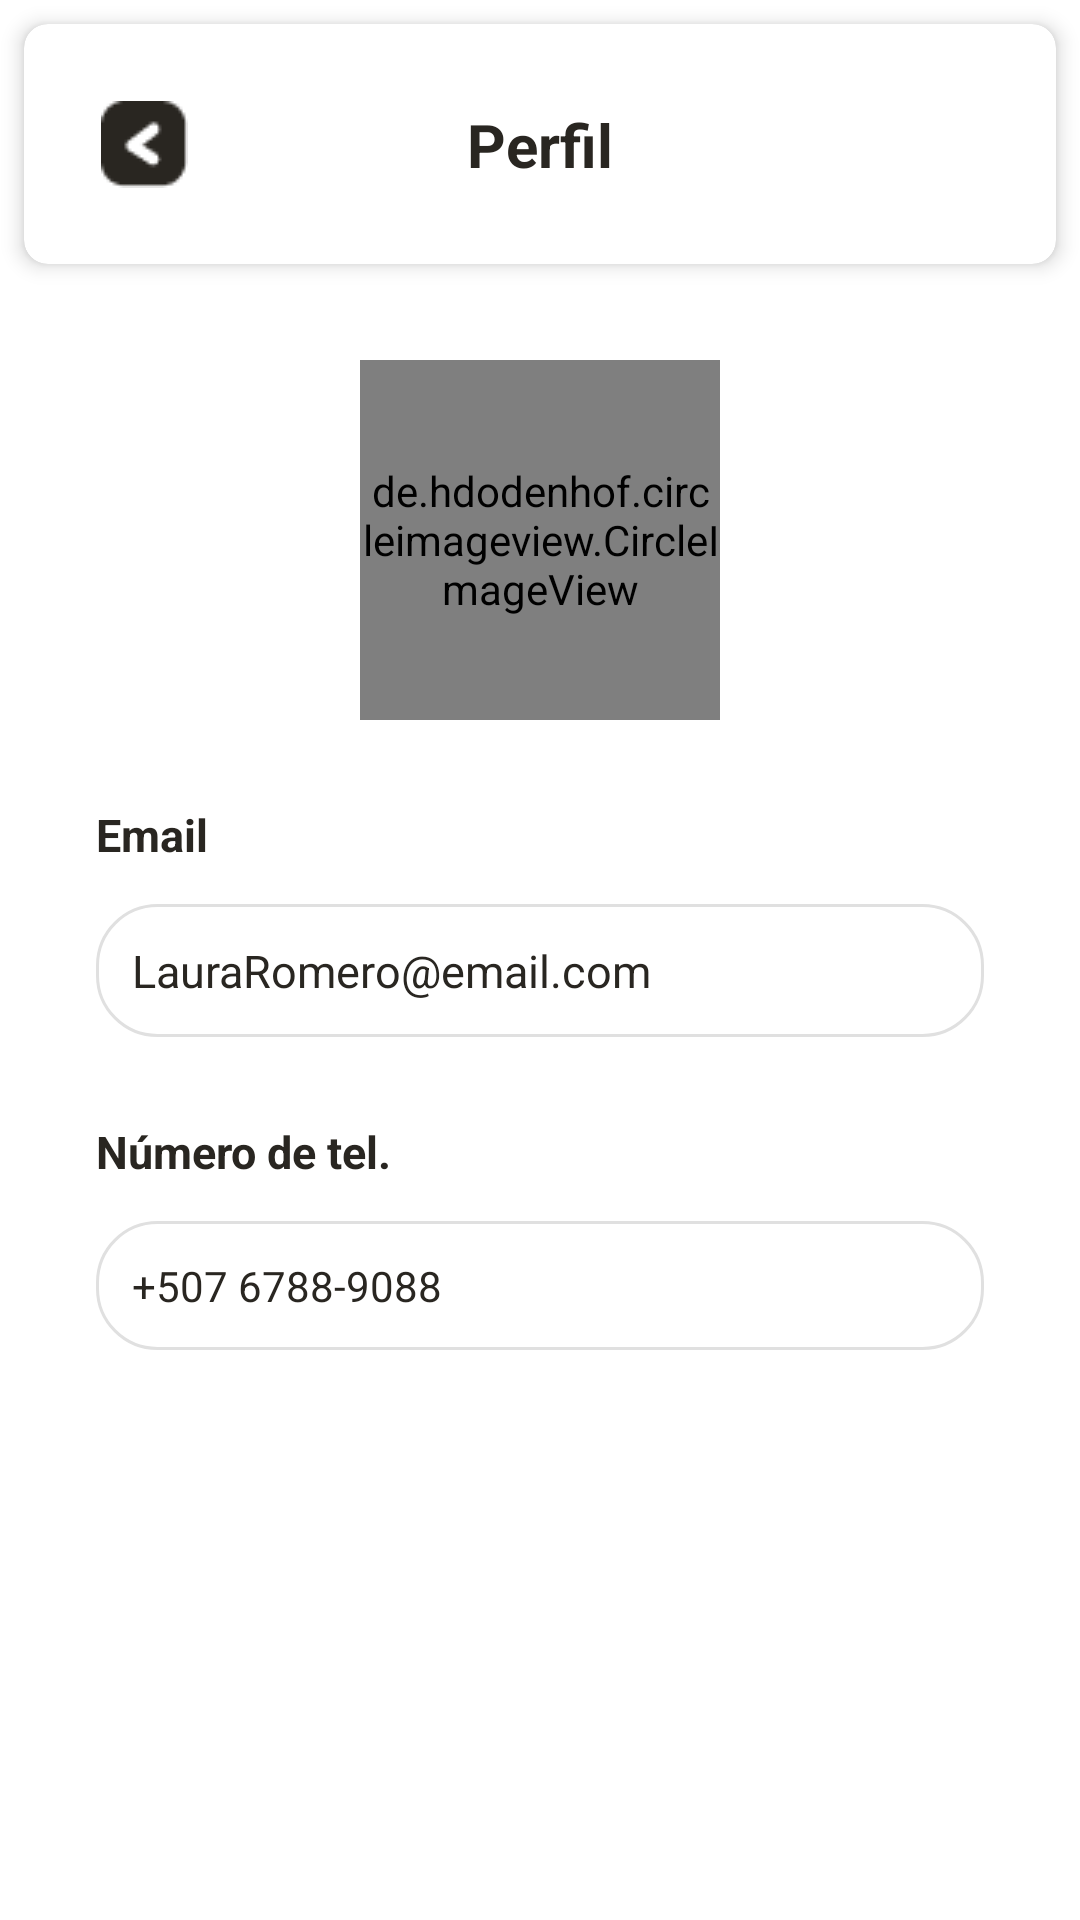

Icon click points for this 1080×1920 phone screenshot, format (x=x, y=y):
back: (x=144, y=144)
